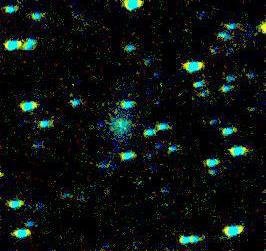star: (247, 14, 266, 44)
